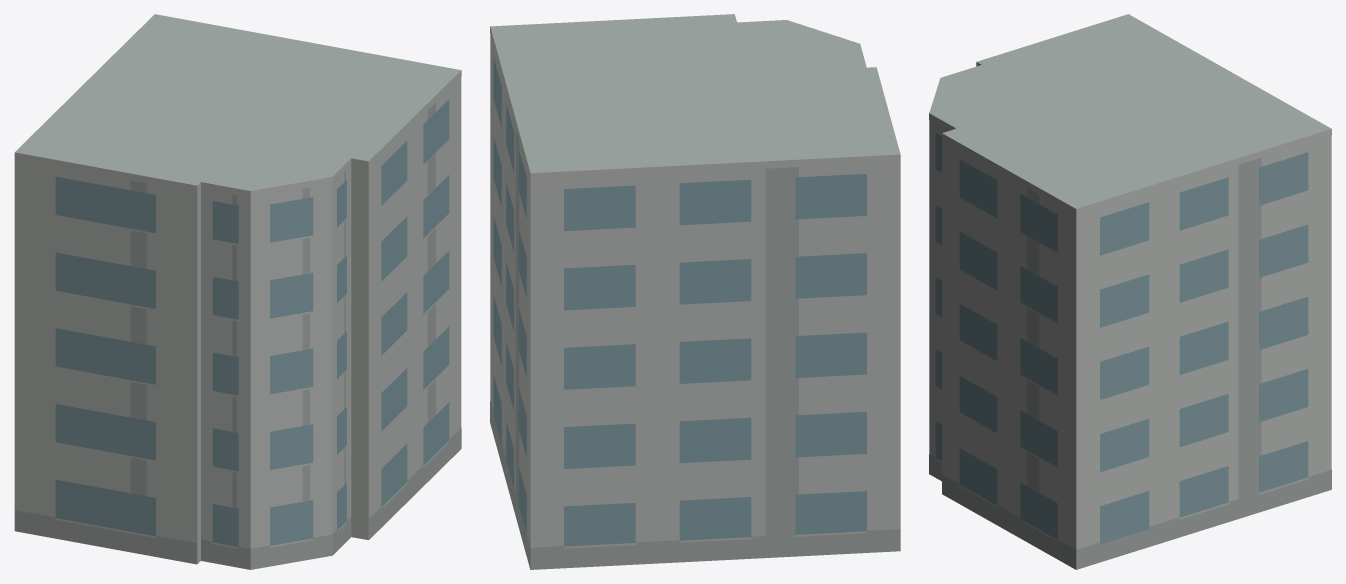
File: residential-bf75cde6-58d0-4a41-951d-45a025da5ee2.glb
3 renders of one model, left to right at view 1: azimuth 30°, elevation 25°; view 2: azimuth 150°, elevation 25°; view 3: azimuth 270°, elevation 25°, orthographic. The views are drawn at different scales.
Visible parts, largest first — view 1: residential-bf75cde6-58d0-4a41-951d-45a025da5ee2.tmp; view 2: residential-bf75cde6-58d0-4a41-951d-45a025da5ee2.tmp; view 3: residential-bf75cde6-58d0-4a41-951d-45a025da5ee2.tmp.
Boxes of the visible parts, x1,y1,x2,y2 form: residential-bf75cde6-58d0-4a41-951d-45a025da5ee2.tmp: (14, 14, 461, 569); residential-bf75cde6-58d0-4a41-951d-45a025da5ee2.tmp: (490, 14, 900, 569); residential-bf75cde6-58d0-4a41-951d-45a025da5ee2.tmp: (929, 14, 1331, 569).
Bounding box in the file's own units: 15.24 × 13.15 × 13.3.
